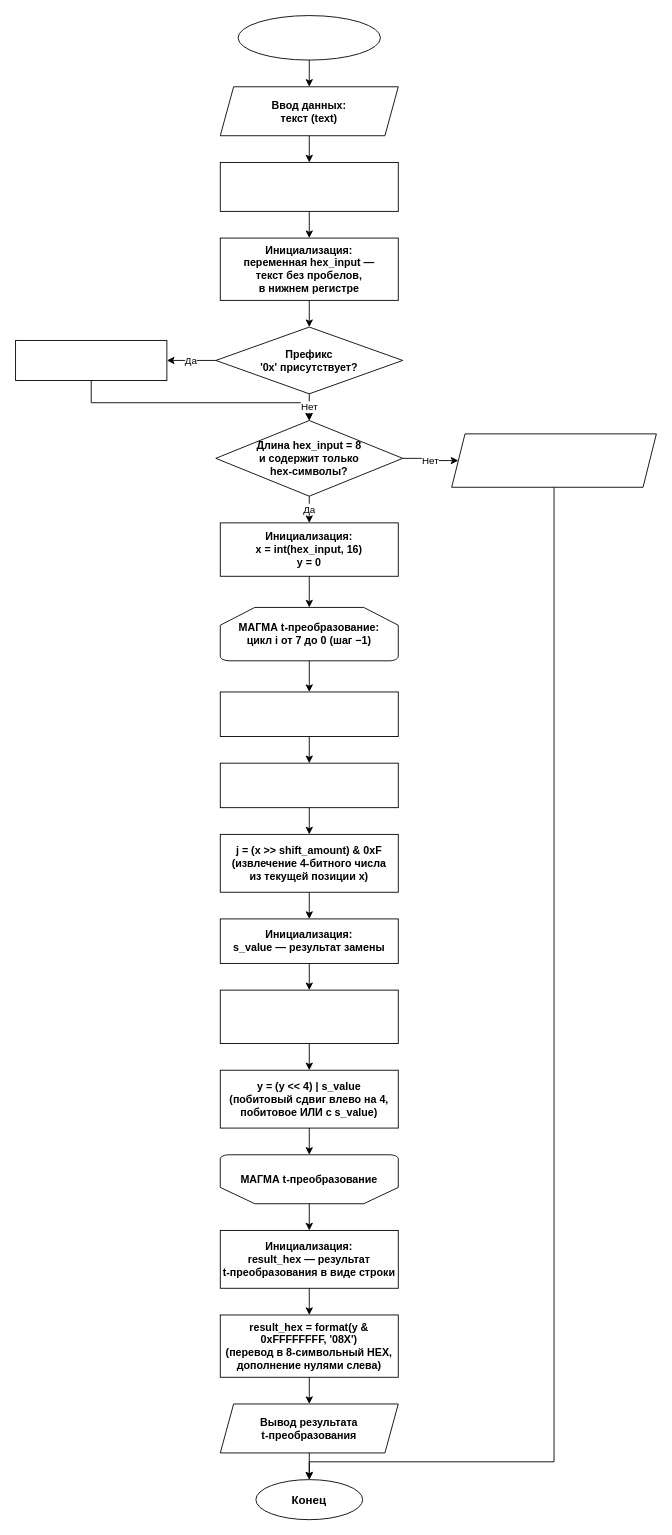
Some shapes in this 672 by 1535 pixel diagram are drawn without their labels. The shapes that lost their labels are listed below. From the top down, each one's box as (x1, y1, x2, y2) in pixels, then its label:
(237, 15, 380, 60): НАЧАЛО
(219, 162, 398, 211): Инициализация: таблица замен PI (8×16)
(15, 340, 167, 380): Обрезание префикса '0x'
(451, 433, 656, 487): Вывод ошибки: «Введите 32-битное число в HEX формате (8 символов)»
(219, 691, 398, 736): Инициализация: shift_amount = i × 4
(219, 762, 398, 808): Инициализация: j — входной индекс для S-блока
(219, 989, 398, 1044): s_value = pi[i][j] (взятие значения из таблицы замен)
